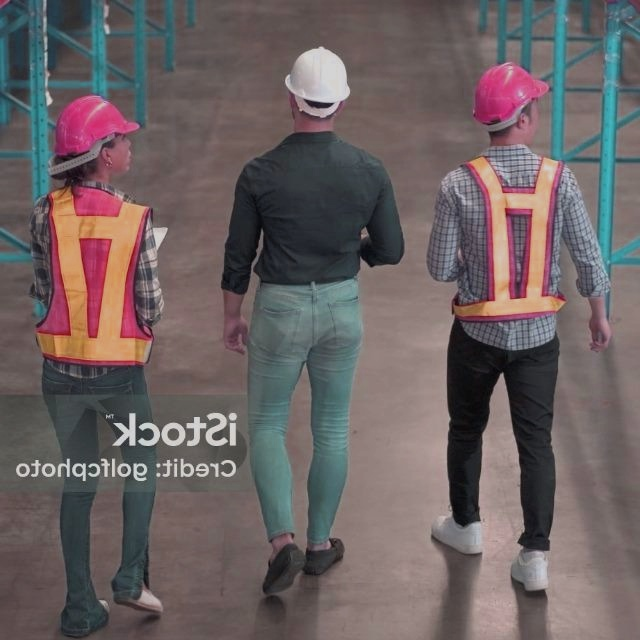Con_Casco: (54, 96, 138, 187), (469, 59, 548, 145), (281, 44, 349, 135)
Con_Chaleco: (24, 184, 168, 368), (443, 152, 571, 322)
Sin_Chaleco: (238, 136, 383, 287)
